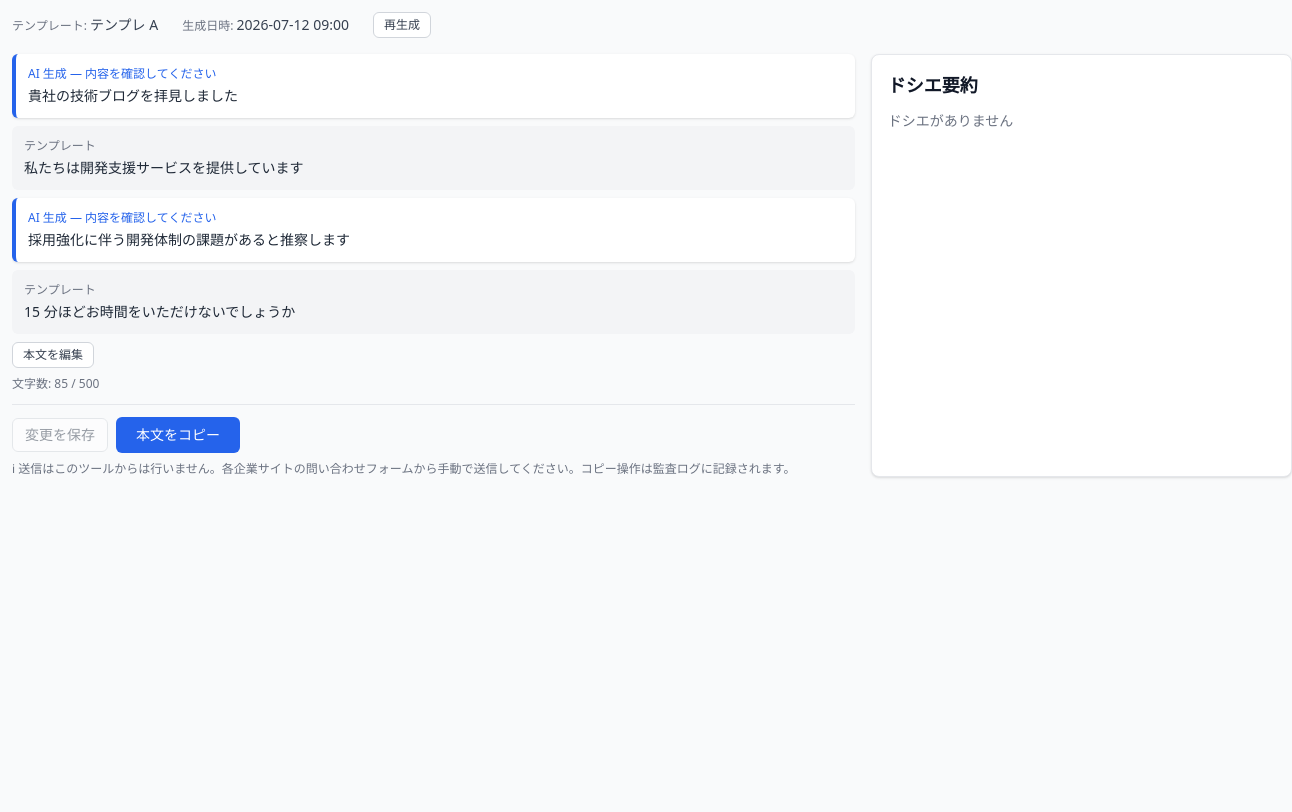
Test: MessageEditor — コピー動線（ui-spec 6.3 / 6.4） › 「送信」単独のボタンは存在しない（ui-spec 6.5）
Click the button "本文をコピー" at (178, 435), box [116, 417, 240, 453]
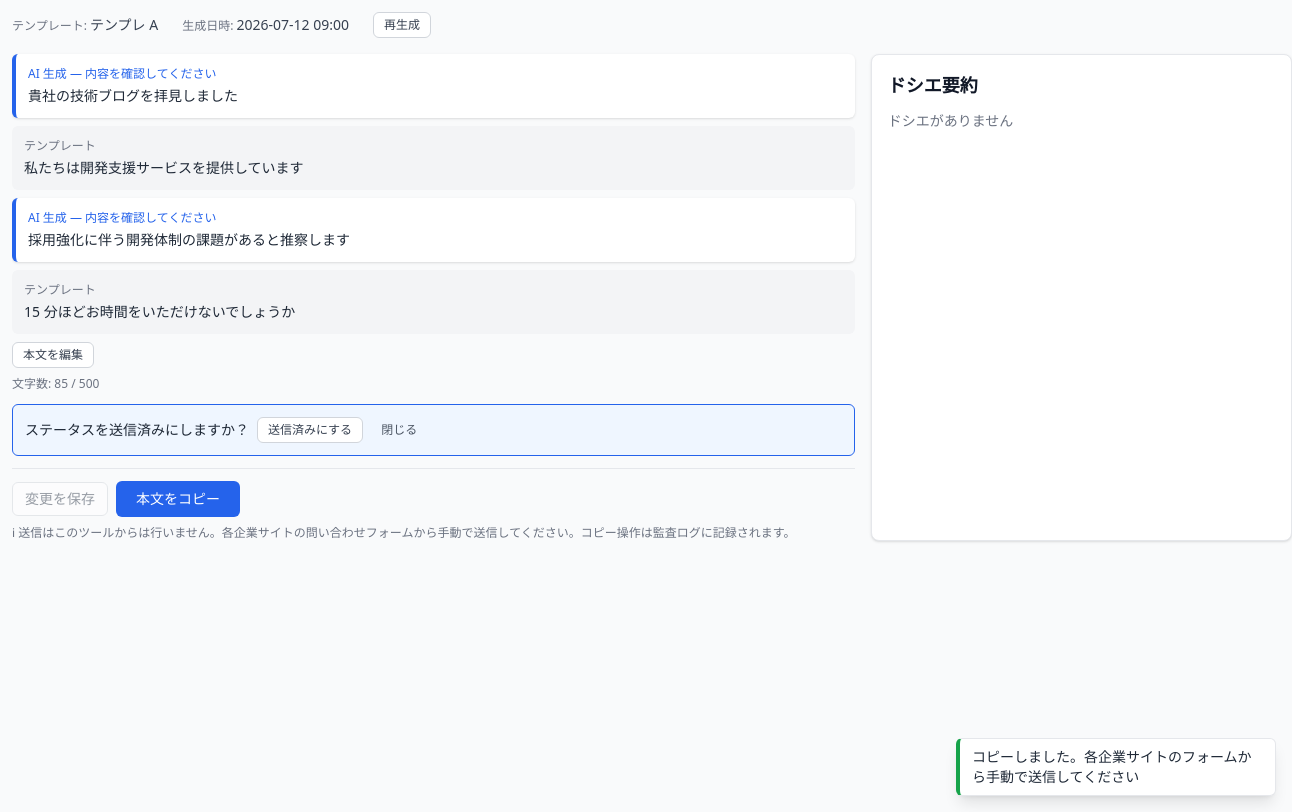
expect the button does not show "送信": met
expect the text "ステータスを送信済みにしますか？" is shown: met, box [25, 420, 249, 440]
expect the button "送信済みにする" is shown: met, box [257, 417, 363, 443]
